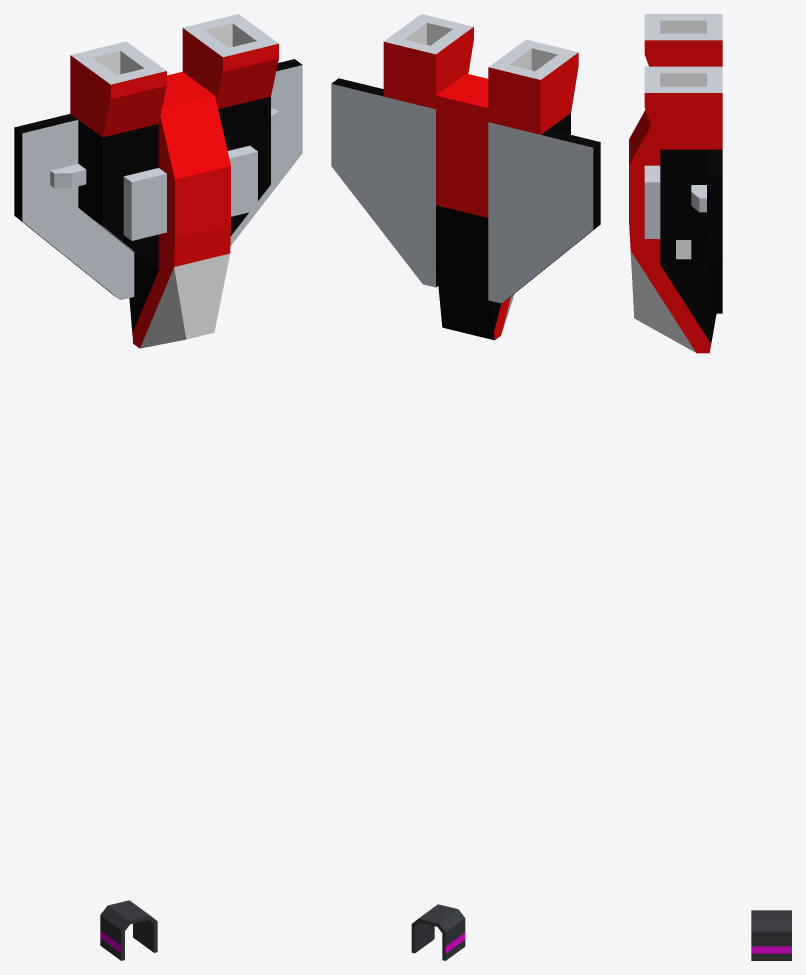
File: corridor.obj
3 views of the same model, side by side, from view 1: azimuth 30°, elevation 25°; view 2: azimuth 150°, elevation 25°; view 3: azimuth 270°, elevation 25° (orthographic). The views are drawn at different scales.
Parts seen in each view (by area): view 1: craft_speederB.003, corridor.001; view 2: craft_speederB.003, corridor.001; view 3: craft_speederB.003, corridor.001.
Part boxes in pixels (bbox=[...]): craft_speederB.003: bbox=[14, 14, 302, 348]; corridor.001: bbox=[100, 900, 157, 960]; craft_speederB.003: bbox=[331, 14, 600, 340]; corridor.001: bbox=[411, 904, 465, 960]; craft_speederB.003: bbox=[629, 14, 722, 353]; corridor.001: bbox=[751, 910, 791, 960].
Size of the model in its own units: 7.69 by 24.43 by 4.01.
